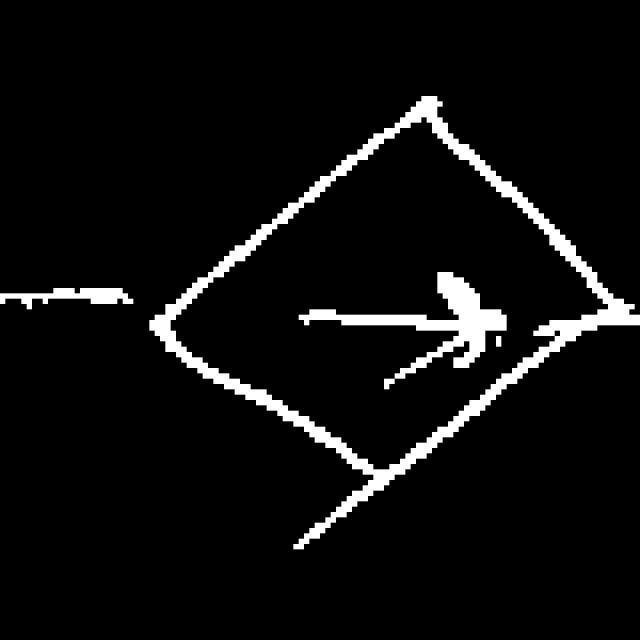dependant_current: (146, 45, 636, 478)
